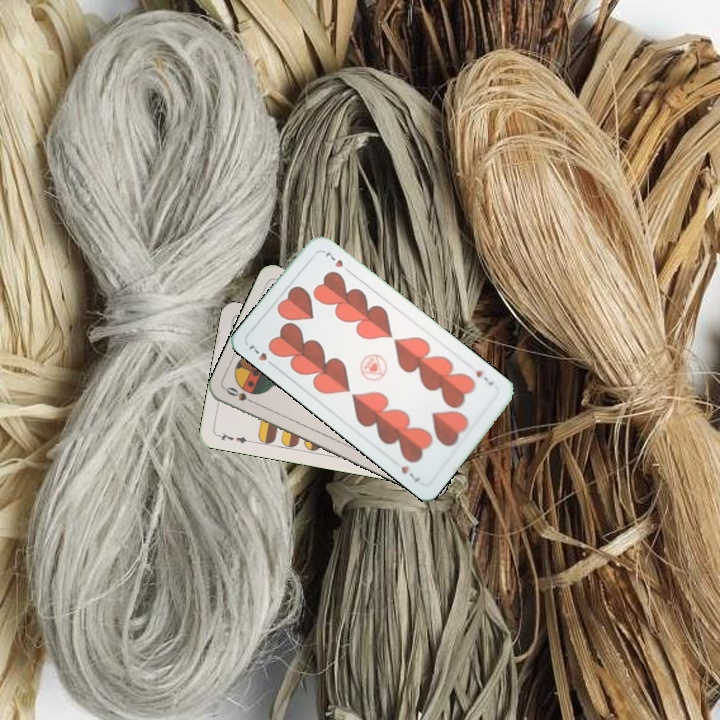E7: (213, 428, 254, 446)
H7: (244, 341, 278, 370), (472, 366, 496, 388)
SO: (222, 383, 260, 407)
